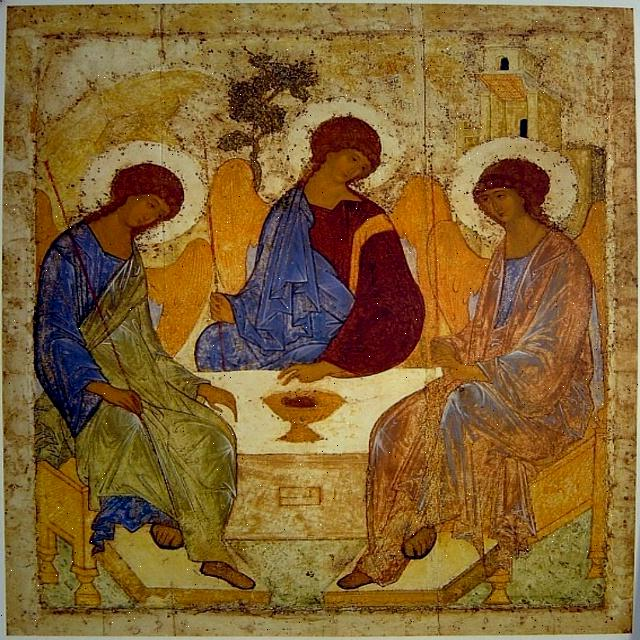angel: (404, 136, 610, 599), (43, 113, 229, 607), (200, 91, 430, 373)
aura: (76, 141, 206, 246), (451, 134, 578, 236), (285, 97, 406, 190)
chalice: (254, 389, 351, 449)
wing: (208, 158, 274, 299), (149, 238, 223, 359), (574, 199, 620, 364), (428, 219, 490, 336), (394, 166, 464, 238)
